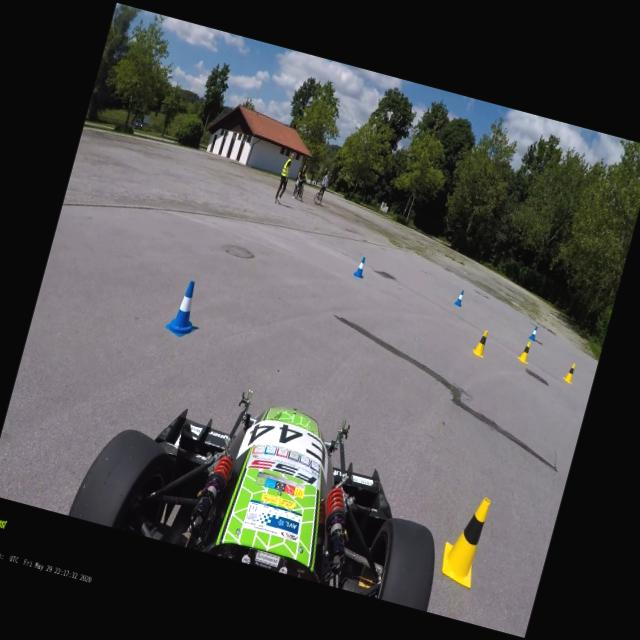blue_cone: (164, 277, 208, 340), (352, 255, 368, 278), (453, 288, 465, 306), (528, 324, 538, 340)
yellow_cone: (436, 490, 494, 588), (471, 328, 490, 358), (516, 339, 534, 364), (562, 361, 576, 384)
